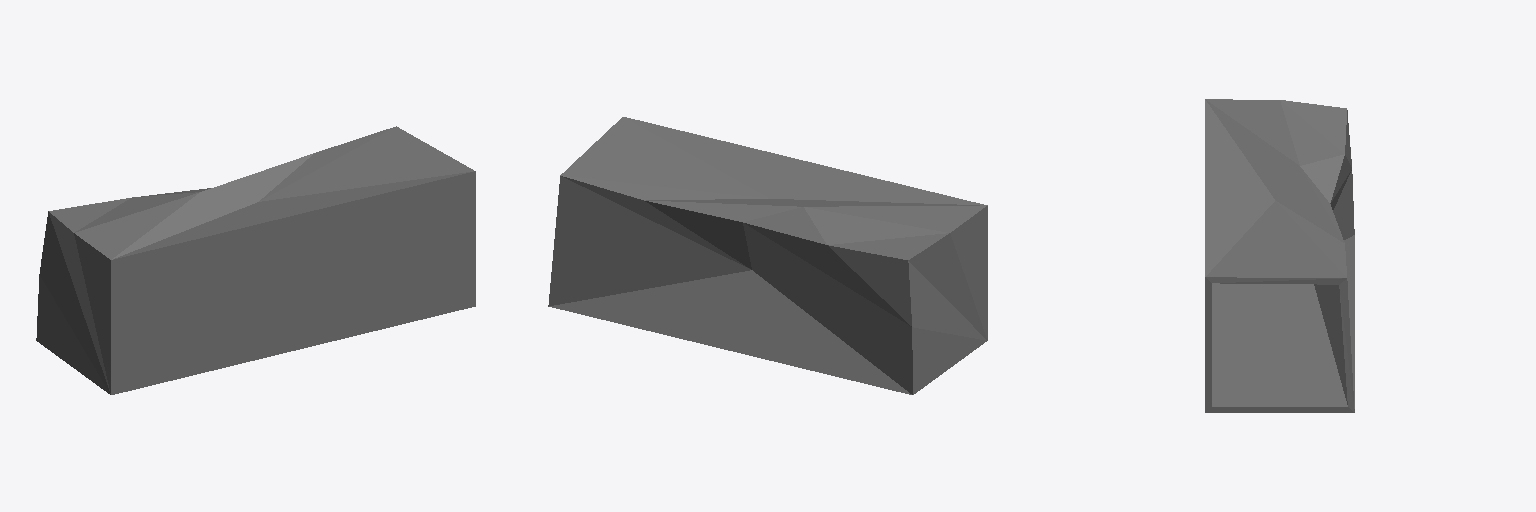
File: CargoB1.obj
The picture shows the model from 3 angles: view 1: azimuth 30°, elevation 25°; view 2: azimuth 150°, elevation 25°; view 3: azimuth 270°, elevation 25°; orthographic projection.
Parts seen in each view (by area): view 1: CargoB1; view 2: CargoB1; view 3: CargoB1.
Part boxes in pixels (left/top/right/bottom): CargoB1: left=36, top=126, right=475, bottom=394; CargoB1: left=548, top=117, right=987, bottom=394; CargoB1: left=1205, top=99, right=1354, bottom=412.
Size of the model in its own units: 6.2 by 2.2 by 2.2.